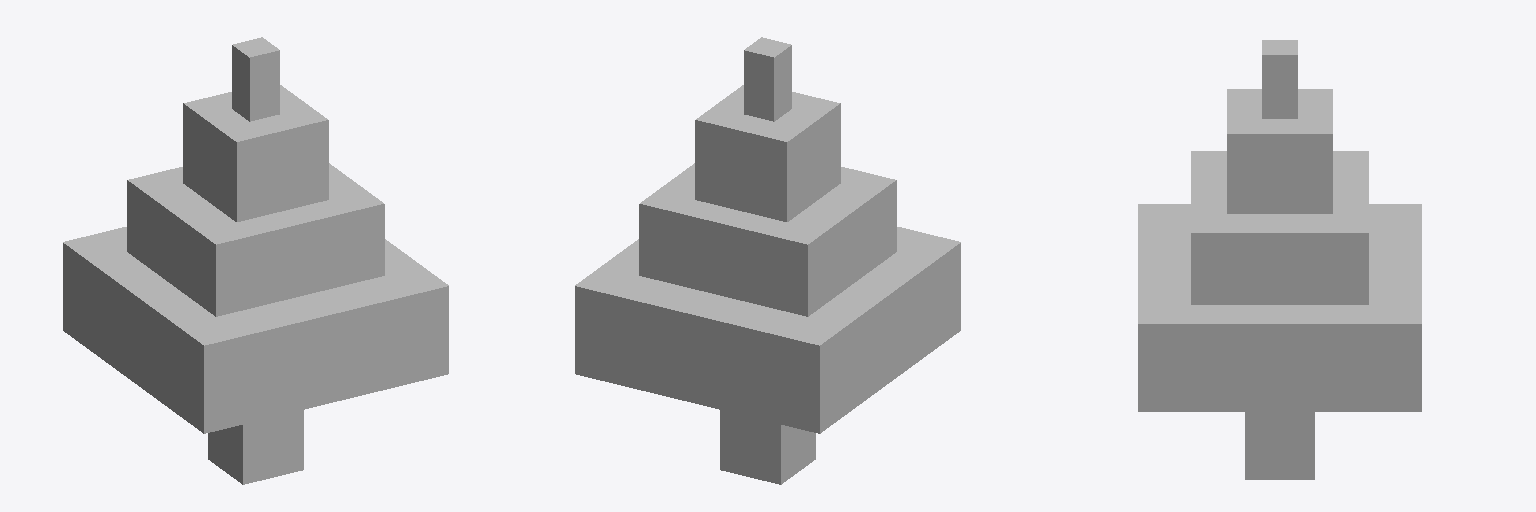
Rendered from tree.obj.
3 views of the same model, side by side, from view 1: azimuth 30°, elevation 25°; view 2: azimuth 150°, elevation 25°; view 3: azimuth 270°, elevation 25° (orthographic).
Parts seen in each view (by area): view 1: object 1; view 2: object 1; view 3: object 1.
Boxes of the visible parts, x1=… form: object 1: x1=63, y1=37, x2=448, y2=484; object 1: x1=575, y1=37, x2=960, y2=484; object 1: x1=1138, y1=40, x2=1421, y2=479.
Bounding box in the file's own units: 3.2 × 5.2 × 3.2.